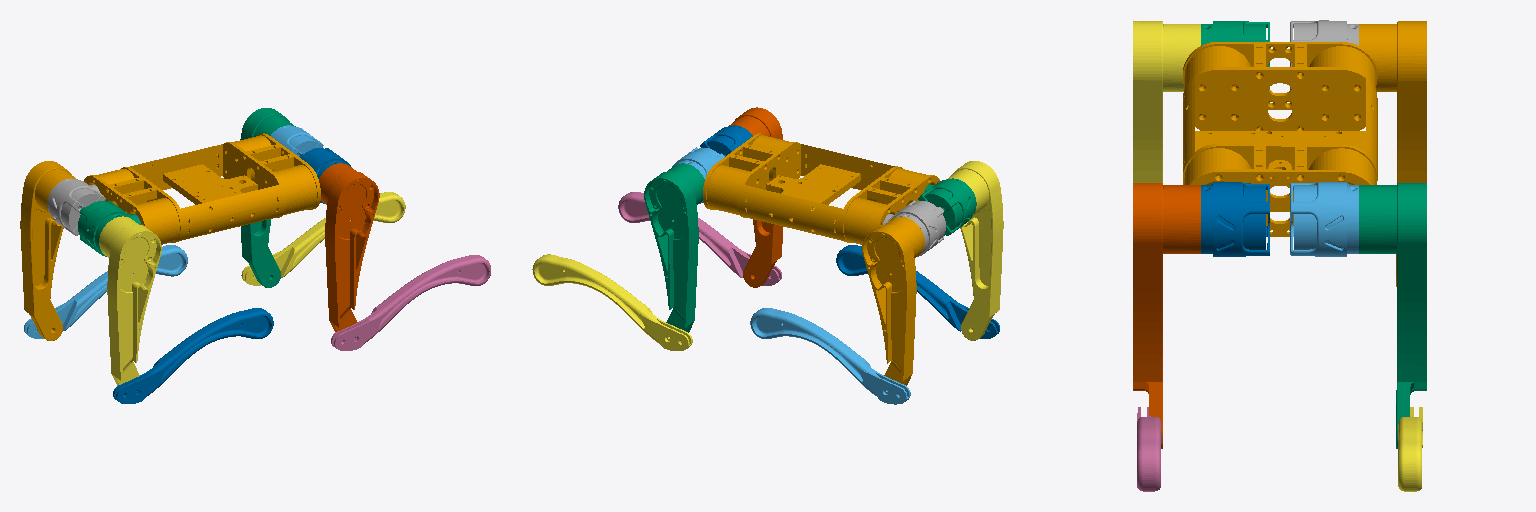
URDF robot description (simple_little_white):
<?xml version="1.0" ?>
<robot name="simple_little_white" xmlns:xacro="http://www.ros.org/wiki/xacro">
<mujoco>
  <compiler
    meshdir="../meshes"
    balanceinertia="true"
    discardvisual="false" />
</mujoco>
<link name="base_link">
  <inertial>
    <origin xyz="-0.058219409920514 -0.00015551013219091903 -0.0009354154163044696" rpy="0 0 0"/>
    <mass value="6.512426707346096"/>
    <inertia ixx="0.018427" iyy="0.057419" izz="0.07308" ixy="8e-06" iyz="3.3e-05" ixz="0.000146"/>
  </inertial>
  <visual>
    <origin xyz="0 0 0" rpy="0 0 0"/>
    <geometry>
      <mesh filename="package://simple_little_white_description/meshes/base_link.stl" scale="0.001 0.001 0.001"/>
    </geometry>
    <material name="silver"/>
  </visual>
  <collision>
    <origin xyz="-0.06 0 0" rpy="0 0 0"/>
    <geometry>
      <box size="0.255 0.165 0.06"/>
    </geometry>
  </collision>
</link>

<link name="FL_hip">
  <inertial>
    <origin xyz="0.0350899197978302 -0.01335927107083651 -4.816375521328421e-05" rpy="0 0 0"/>
    <mass value="1.1880376921996947"/>
    <inertia ixx="0.000534" iyy="0.000575" izz="0.000581" ixy="2.3e-05" iyz="-0.0" ixz="-0.0"/>
  </inertial>
  <visual>
    <origin xyz="-0.062848 -0.050963 0.001091" rpy="0 0 0"/>
    <geometry>
      <mesh filename="package://simple_little_white_description/meshes/fl_hip_1.stl" scale="0.001 0.001 0.001"/>
    </geometry>
    <material name="silver"/>
  </visual>
  <collision>
    <origin xyz="0.0365 -0.016 0" rpy="1.57 0 0"/>
    <geometry>
      <cylinder radius="0.031" length="0.055"/>
    </geometry>
  </collision>
</link>

<link name="FL_thigh">
  <inertial>
    <origin xyz="-0.0045084384857524 0.03041494357767835 -0.038282955304764055" rpy="0 0 0"/>
    <mass value="1.5258680170230223"/>
    <inertia ixx="0.006064" iyy="0.006141" izz="0.000707" ixy="8e-05" iyz="0.000589" ixz="-0.000489"/>
  </inertial>
  <visual>
    <origin xyz="-0.099348 -0.0655 0.001201" rpy="0 0 0"/>
    <geometry>
      <mesh filename="package://simple_little_white_description/meshes/fl_thigh_1.stl" scale="0.001 0.001 0.001"/>
    </geometry>
    <material name="silver"/>
  </visual>
  <collision>
    <origin xyz="0 0.03 0" rpy="1.57 0 0"/>
    <geometry>
      <cylinder radius="0.031" length="0.055"/>
    </geometry>
  </collision>
  <collision>
  <origin xyz="-0.025 0.045 -0.08" rpy="0 0 0"/>
  <geometry>
    <box size="0.02 0.03 0.15"/>
  </geometry>
</collision>
</link>

<link name="FL_calf">
  <inertial>
    <origin xyz="0.013545723984630276 0.0017550668470847353 -0.09349209111799792" rpy="0 0 0"/>
    <mass value="0.49948793135344544"/>
    <inertia ixx="0.00237" iyy="0.002445" izz="9.8e-05" ixy="6e-06" iyz="-4.8e-05" ixz="0.000207"/>
  </inertial>
  <visual>
    <origin xyz="-0.097619 -0.107944 0.196111" rpy="0 0 0"/>
    <geometry>
      <mesh filename="package://simple_little_white_description/meshes/fl_shin_1.stl" scale="0.001 0.001 0.001"/>
    </geometry>
    <material name="silver"/>
  </visual>
  <collision>
    <origin xyz="0.015 0 -0.07" rpy="0 -0.2 0"/>
    <geometry>
      <box size="0.02 0.03 0.18"/> 
    </geometry>
  </collision>
  <collision>
    <origin xyz="0.01 0 -0.19"/>
    <geometry>
      <sphere radius="0.02"/>
    </geometry>
  </collision>
</link>

<link name="FR_hip">
  <inertial>
    <origin xyz="0.03508927341115779 0.01335892135358984 -0.00010253192976971022" rpy="0 0 0"/>
    <mass value="1.1880376921996947"/>
    <inertia ixx="0.000534" iyy="0.000575" izz="0.000581" ixy="-2.3e-05" iyz="0.0" ixz="0.0"/>
  </inertial>
  <visual>
    <origin xyz="-0.062849 0.051037 0.000872" rpy="0 0 0"/>
    <geometry>
      <mesh filename="package://simple_little_white_description/meshes/fr_hip_1.stl" scale="0.001 0.001 0.001"/>
    </geometry>
    <material name="silver"/>
  </visual>
  <collision>
    <origin xyz="0.0365 0.016 0" rpy="1.57 0 0"/>
    <geometry>
      <cylinder radius="0.031" length="0.055"/>
    </geometry>
  </collision>
</link>

<link name="FR_thigh">
  <inertial>
    <origin xyz="-0.004508553618361166 -0.03057950425042323 -0.03815241663325896" rpy="0 0 0"/>
    <mass value="1.5258674069251719"/>
    <inertia ixx="0.006064" iyy="0.006136" izz="0.000712" ixy="-8.2e-05" iyz="-0.000612" ixz="-0.000488"/>
  </inertial>
  <visual>
    <origin xyz="-0.099349 0.065574 0.000919" rpy="0 0 0"/>
    <geometry>
      <mesh filename="package://simple_little_white_description/meshes/fr_thigh_1.stl" scale="0.001 0.001 0.001"/>
    </geometry>
    <material name="silver"/>
  </visual>
  <collision>
    <origin xyz="0 -0.03 0" rpy="1.57 0 0"/>
    <geometry>
      <cylinder radius="0.031" length="0.055"/>
    </geometry>
  </collision>
  <collision>
    <origin xyz="-0.025 -0.045 -0.08" rpy="0 0 0"/>
    <geometry>
      <box size="0.02 0.03 0.15"/>
    </geometry>
  </collision>
</link>

<link name="FR_calf">
  <inertial>
    <origin xyz="0.013545717576416441 -0.002156812959451457 -0.09348303178635164" rpy="0 0 0"/>
    <mass value="0.49948964066574203"/>
    <inertia ixx="0.00237" iyy="0.002446" izz="9.8e-05" ixy="-5e-06" iyz="3.8e-05" ixz="0.000207"/>
  </inertial>
  <visual>
    <origin xyz="-0.09762 0.108855 0.195646" rpy="0 0 0"/>
    <geometry>
      <mesh filename="package://simple_little_white_description/meshes/fr_shin_1.stl" scale="0.001 0.001 0.001"/>
    </geometry>
    <material name="silver"/>
  </visual>
  <collision>
    <origin xyz="0.015 0 -0.07" rpy="0 -0.2 0"/>
    <geometry>
      <box size="0.02 0.03 0.18"/>
    </geometry>
  </collision>
  <collision>
    <origin xyz="0.01 0 -0.19"/>
    <geometry>
      <sphere radius="0.02"/>
    </geometry>
  </collision>
</link>

<link name="RL_hip">
  <inertial>
    <origin xyz="-0.03508952830635845 -0.013359271051283268 0.00010280923911701697" rpy="0 0 0"/>
    <mass value="1.188037688013764"/>
    <inertia ixx="0.000534" iyy="0.000575" izz="0.000581" ixy="-2.3e-05" iyz="0.0" ixz="0.0"/>
  </inertial>
  <visual>
    <origin xyz="0.182151 -0.050963 0.000565" rpy="0 0 0"/>
    <geometry>
      <mesh filename="package://simple_little_white_description/meshes/rl_hip_1.stl" scale="0.001 0.001 0.001"/>
    </geometry>
    <material name="silver"/>
  </visual>
  <collision>
    <origin xyz="-0.0365 -0.016 0" rpy="1.57 0 0"/>
    <geometry>
      <cylinder radius="0.031" length="0.055"/>
    </geometry>
  </collision>
</link>

<link name="RL_thigh">
  <inertial>
    <origin xyz="-0.004508704943247233 0.03041494357767835 -0.038282923463854784" rpy="0 0 0"/>
    <mass value="1.5258680170230223"/>
    <inertia ixx="0.006064" iyy="0.006141" izz="0.000707" ixy="8e-05" iyz="0.000589" ixz="-0.000489"/>
  </inertial>
  <visual>
    <origin xyz="0.218651 -0.0655 0.000518" rpy="0 0 0"/>
    <geometry>
      <mesh filename="package://simple_little_white_description/meshes/rl_thigh_1.stl" scale="0.001 0.001 0.001"/>
    </geometry>
    <material name="silver"/>
  </visual>
  <collision>
    <origin xyz="0 0.03 0" rpy="1.57 0 0"/>
    <geometry>
      <cylinder radius="0.031" length="0.055"/>
    </geometry>
  </collision>
  <collision>
    <origin xyz="-0.025 0.045 -0.08" rpy="0 0 0"/>
    <geometry>
      <box size="0.02 0.03 0.15"/>
    </geometry>
  </collision>
</link>

<link name="RL_calf">
  <inertial>
    <origin xyz="0.013545457527134291 0.001755066847083625 -0.09349205927708959" rpy="0 0 0"/>
    <mass value="0.49948793135344544"/>
    <inertia ixx="0.00237" iyy="0.002445" izz="9.8e-05" ixy="6e-06" iyz="-4.8e-05" ixz="0.000207"/>
  </inertial>
  <visual>
    <origin xyz="0.22038 -0.107944 0.195428" rpy="0 0 0"/>
    <geometry>
      <mesh filename="package://simple_little_white_description/meshes/rl_shin_1.stl" scale="0.001 0.001 0.001"/>
    </geometry>
    <material name="silver"/>
  </visual>
  <collision>
    <origin xyz="0.015 0 -0.07" rpy="0 -0.2 0"/>
    <geometry>
      <box size="0.02 0.03 0.18"/>
    </geometry>
  </collision>
  <collision>
    <origin xyz="0.01 0 -0.19"/>
    <geometry>
      <sphere radius="0.02"/>
    </geometry>
  </collision>
</link>

<link name="RR_hip">
  <inertial>
    <origin xyz="-0.03508917469303055 0.013358921334036239 4.844106465489432e-05" rpy="0 0 0"/>
    <mass value="1.188037688013764"/>
    <inertia ixx="0.000534" iyy="0.000575" izz="0.000581" ixy="2.3e-05" iyz="-0.0" ixz="-0.0"/>
  </inertial>
  <visual>
    <origin xyz="0.182151 0.051037 0.000346" rpy="0 0 0"/>
    <geometry>
      <mesh filename="package://simple_little_white_description/meshes/rr_hip_1.stl" scale="0.001 0.001 0.001"/>
    </geometry>
    <material name="silver"/>
  </visual>
  <collision>
    <origin xyz="-0.0365 0.016 0" rpy="1.57 0 0"/>
    <geometry>
      <cylinder radius="0.031" length="0.055"/>
    </geometry>
  </collision>
</link>

<link name="RR_thigh">
  <inertial>
    <origin xyz="-0.004508820075855707 -0.03057950425042348 -0.038152384792349586" rpy="0 0 0"/>
    <mass value="1.5258674069251719"/>
    <inertia ixx="0.006064" iyy="0.006136" izz="0.000712" ixy="-8.2e-05" iyz="-0.000612" ixz="-0.000488"/>
  </inertial>
  <visual>
    <origin xyz="0.21865 0.065574 0.000236" rpy="0 0 0"/>
    <geometry>
      <mesh filename="package://simple_little_white_description/meshes/rr_thigh_1.stl" scale="0.001 0.001 0.001"/>
    </geometry>
    <material name="silver"/>
  </visual>
  <collision>
    <origin xyz="0 -0.03 0" rpy="1.57 0 0"/>
    <geometry>
      <cylinder radius="0.031" length="0.055"/>
    </geometry>
  </collision>
  <collision>
    <origin xyz="-0.025 -0.045 -0.08" rpy="0 0 0"/>
    <geometry>
      <box size="0.02 0.03 0.15"/>
    </geometry>
  </collision>
</link>

<link name="RR_calf">
  <inertial>
    <origin xyz="0.013545451118921137 -0.002156812959451526 -0.09348399994544224" rpy="0 0 0"/>
    <mass value="0.49948964066574203"/>
    <inertia ixx="0.00237" iyy="0.002446" izz="9.8e-05" ixy="-5e-06" iyz="3.8e-05" ixz="0.000207"/>
  </inertial>
  <visual>
    <origin xyz="0.220379 0.108855 0.194962" rpy="0 0 0"/>
    <geometry>
      <mesh filename="package://simple_little_white_description/meshes/rr_shin_1.stl" scale="0.001 0.001 0.001"/>
    </geometry>
    <material name="silver"/>
  </visual>
  <collision>
    <origin xyz="0.015 0 -0.07" rpy="0 -0.2 0"/>
    <geometry>
      <box size="0.02 0.03 0.18"/>
    </geometry>
  </collision>
  <collision>
    <origin xyz="0.01 0 -0.19"/>
    <geometry>
      <sphere radius="0.02"/>
    </geometry>
  </collision>
</link>

<joint name="FL_hip_joint" type="revolute">
  <origin xyz="0.0628 0.051 0" rpy="0 0 0"/>
  <parent link="base_link"/>
  <child link="FL_hip"/>
  <axis xyz="1 0 0"/>
  <limit
    lower="-1.0472"
    upper="1.0472"
    effort="23.7"
    velocity="30.1" />
</joint>

<joint name="FL_thigh_joint" type="revolute">
  <origin xyz="0.0365 0.014537 0" rpy="0 0 0"/>
  <parent link="FL_hip"/>
  <child link="FL_thigh"/>
  <axis xyz="0 1 0"/>
  <limit
    lower="-1.5708"
    upper="3.4907"
    effort="23.7"
    velocity="30.1" />
</joint>

<joint name="FL_calf_joint" type="revolute">
  <origin xyz="-0.001729 0.042 -0.194" rpy="0 0 0"/>
  <parent link="FL_thigh"/>
  <child link="FL_calf"/>
  <axis xyz="0 1 0"/>
  <limit
    lower="-2.7227"
    upper="-0.83776"
    effort="45.43"
    velocity="15.70" />
</joint>

<joint name="FR_hip_joint" type="revolute">
  <origin xyz="0.0628 -0.051 0" rpy="0 0 0"/>
  <parent link="base_link"/>
  <child link="FR_hip"/>
  <axis xyz="1 0 0"/>
  <limit
    lower="-1.0472"
    upper="1.0472"
    effort="23.7"
    velocity="30.1" />
</joint>

<joint name="FR_thigh_joint" type="revolute">
  <origin xyz="0.0365 -0.014537 0" rpy="0 0 0"/>
  <parent link="FR_hip"/>
  <child link="FR_thigh"/>
  <axis xyz="0 1 0"/>
  <limit
    lower="-1.5708"
    upper="3.4907"
    effort="23.7"
    velocity="30.1" />
</joint>

<joint name="FR_calf_joint" type="revolute">
  <origin xyz="-0.001729 -0.042 -0.194" rpy="0 0 0"/>
  <parent link="FR_thigh"/>
  <child link="FR_calf"/>
  <axis xyz="0 1 0"/>
  <limit
    lower="-2.7227"
    upper="-0.83776"
    effort="45.43"
    velocity="15.70" />
</joint>

<joint name="RL_hip_joint" type="revolute">
  <origin xyz="-0.182151 0.051 0" rpy="0 0 0"/>
  <parent link="base_link"/>
  <child link="RL_hip"/>
  <axis xyz="1 0 0"/>
  <limit
    lower="-1.0472"
    upper="1.0472"
    effort="23.7"
    velocity="30.1" />
</joint>

<joint name="RL_thigh_joint" type="revolute">
  <origin xyz="-0.0365 0.014537 0" rpy="0 0 0"/>
  <parent link="RL_hip"/>
  <child link="RL_thigh"/>
  <axis xyz="0 1 0"/>
  <limit
    lower="-0.5236"
    upper="4.5379"
    effort="23.7"
    velocity="30.1" />
</joint>

<joint name="RL_calf_joint" type="revolute">
  <origin xyz="-0.001729 0.042 -0.194" rpy="0 0 0"/>
  <parent link="RL_thigh"/>
  <child link="RL_calf"/>
  <axis xyz="0 1 0"/>
  <limit
    lower="-2.7227"
    upper="-0.83776"
    effort="45.43"
    velocity="15.70" />
</joint>

<joint name="RR_hip_joint" type="revolute">
  <origin xyz="-0.182151 -0.051 0" rpy="0 0 0"/>
  <parent link="base_link"/>
  <child link="RR_hip"/>
  <axis xyz="1 0 0"/>
  <limit
    lower="-1.0472"
    upper="1.0472"
    effort="23.7"
    velocity="30.1" />
</joint>

<joint name="RR_thigh_joint" type="revolute">
  <origin xyz="-0.0365 -0.014537 0" rpy="0 0 0"/>
  <parent link="RR_hip"/>
  <child link="RR_thigh"/>
  <axis xyz="0 1 0"/>
  <limit
    lower="-0.5236"
    upper="4.5379"
    effort="23.7"
    velocity="30.1" />
</joint>

<joint name="RR_calf_joint" type="revolute">
  <origin xyz="-0.001729 -0.042 -0.194" rpy="0 0 0"/>
  <parent link="RR_thigh"/>
  <child link="RR_calf"/>
  <axis xyz="0 1 0"/>
  <limit
    lower="-2.7227"
    upper="-0.83776"
    effort="45.43"
    velocity="15.70" />
</joint>

</robot>

--- Render facts (derived) ---
The picture shows the robot from 3 angles, left to right: view 1: azimuth 30°, elevation 25°; view 2: azimuth 150°, elevation 25°; view 3: azimuth 270°, elevation 25°; orthographic projection.
Model simple_little_white with 13 links and 12 joints (12 revolute), rooted at base_link, posed all joints at 0 but 4 set to mid-range because 0 is outside their limits (FL_calf_joint = -1.78, FR_calf_joint = -1.78, RL_calf_joint = -1.78, RR_calf_joint = -1.78).
Visible links, largest first — view 1: base_link, RR_thigh, FR_thigh, RL_thigh, FR_calf, RR_calf, FL_thigh, FL_calf, RL_calf, RL_hip, RR_hip, FL_hip (+1 smaller); view 2: base_link, RL_thigh, FL_thigh, RR_thigh, RL_calf, FL_calf, FR_thigh, FR_calf, RR_calf, RR_hip, RL_hip, FR_hip (+1 smaller); view 3: base_link, FL_thigh, FR_thigh, RL_thigh, RR_thigh, FL_hip, FR_hip, FL_calf, FR_calf, RL_hip, RR_hip.
Link boxes in pixels (x1=…): base_link: x1=84, y1=133, x2=320, y2=244; RR_thigh: x1=99, y1=216, x2=161, y2=385; FR_thigh: x1=319, y1=163, x2=379, y2=331; RL_thigh: x1=20, y1=161, x2=77, y2=340; FR_calf: x1=331, y1=255, x2=490, y2=350; RR_calf: x1=113, y1=308, x2=273, y2=403; FL_thigh: x1=240, y1=108, x2=295, y2=287; FL_calf: x1=241, y1=192, x2=405, y2=285; RL_calf: x1=24, y1=245, x2=187, y2=338; RL_hip: x1=47, y1=178, x2=105, y2=235; RR_hip: x1=78, y1=201, x2=140, y2=256; FL_hip: x1=271, y1=125, x2=323, y2=156; base_link: x1=703, y1=133, x2=939, y2=244; RL_thigh: x1=862, y1=217, x2=924, y2=385; FL_thigh: x1=644, y1=163, x2=704, y2=332; RR_thigh: x1=946, y1=161, x2=1003, y2=340; RL_calf: x1=750, y1=308, x2=910, y2=404; FL_calf: x1=532, y1=254, x2=692, y2=350; FR_thigh: x1=728, y1=107, x2=782, y2=287; FR_calf: x1=618, y1=192, x2=781, y2=285; RR_calf: x1=836, y1=245, x2=999, y2=338; RR_hip: x1=918, y1=178, x2=976, y2=235; RL_hip: x1=883, y1=200, x2=945, y2=256; FR_hip: x1=700, y1=125, x2=752, y2=156; base_link: x1=1183, y1=42, x2=1377, y2=236; FL_thigh: x1=1359, y1=183, x2=1426, y2=448; FR_thigh: x1=1133, y1=183, x2=1200, y2=448; RL_thigh: x1=1359, y1=21, x2=1426, y2=286; RR_thigh: x1=1133, y1=21, x2=1200, y2=182; FL_hip: x1=1290, y1=182, x2=1358, y2=256; FR_hip: x1=1201, y1=182, x2=1269, y2=256; FL_calf: x1=1398, y1=407, x2=1422, y2=491; FR_calf: x1=1137, y1=407, x2=1161, y2=491; RL_hip: x1=1290, y1=20, x2=1358, y2=89; RR_hip: x1=1201, y1=21, x2=1269, y2=88.
Size in the robot's own frame: 0.5507 by 0.2444 by 0.241 metres.
Meshes: 13 distinct files referenced, 13 mesh visuals loaded (13 binary STL).
